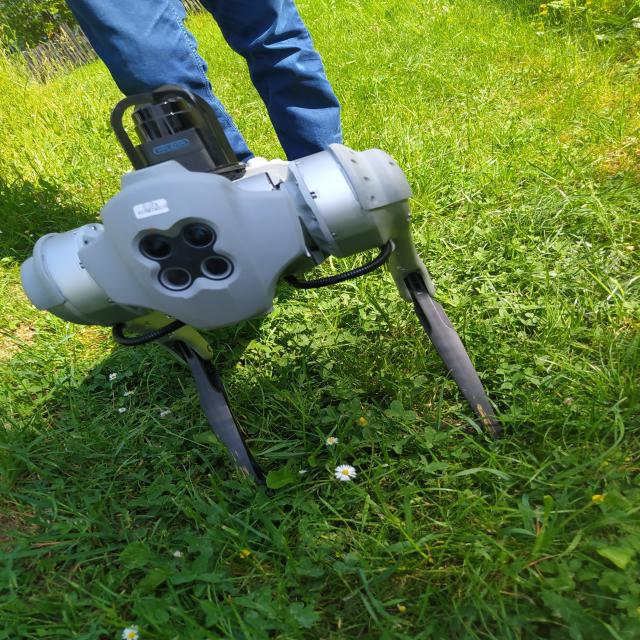unitree-go1-robot: (27, 86, 516, 488)
